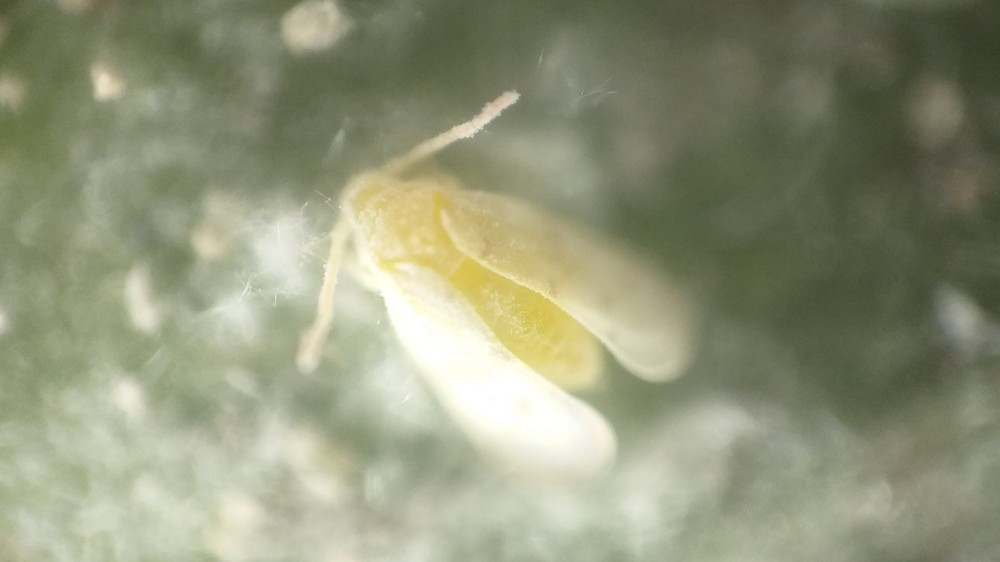Mosca Blanca: (291, 85, 717, 515)
